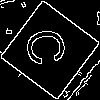C: (25, 25, 76, 68)
